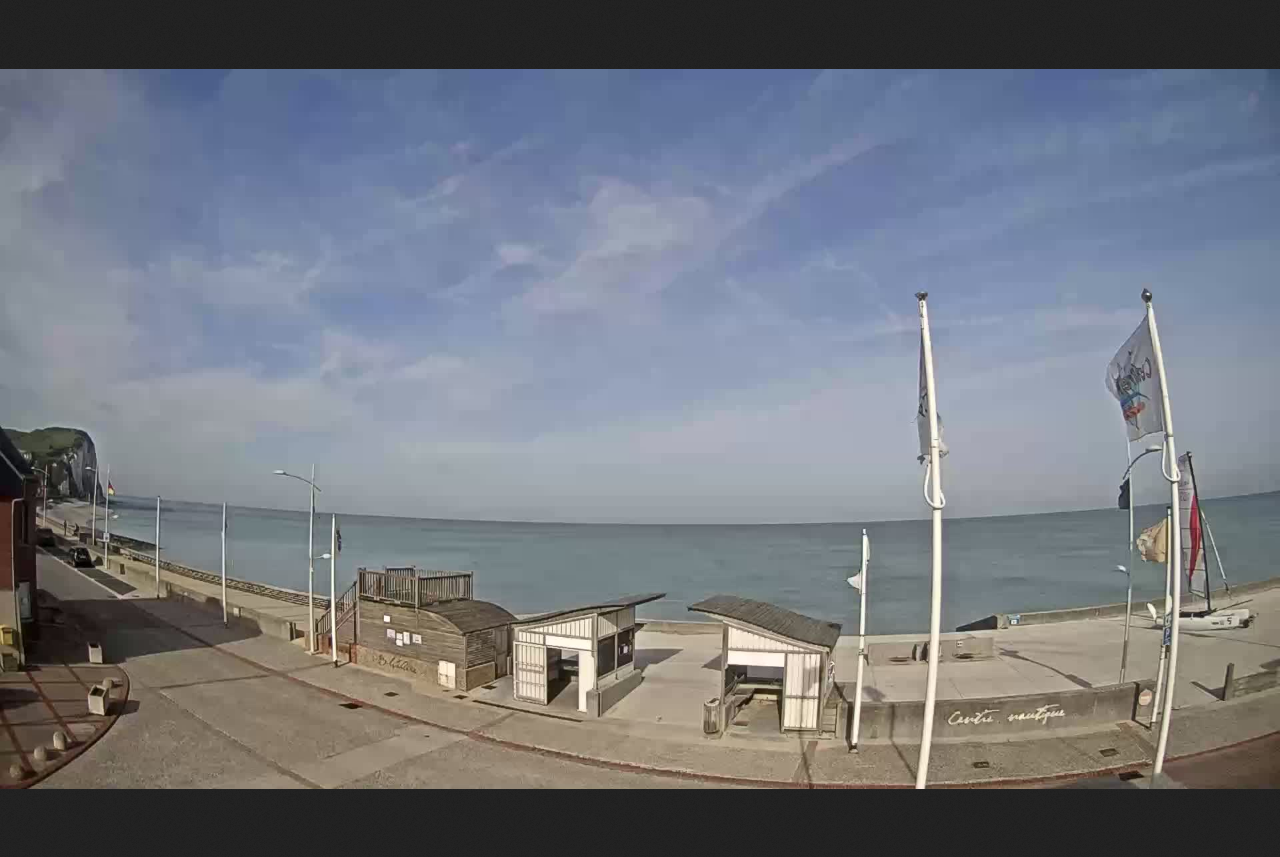yes: (1103, 307, 1167, 444), (910, 325, 948, 479)
